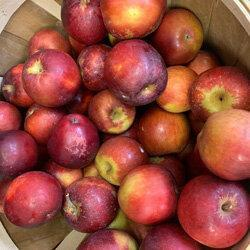apple: (176, 173, 249, 246), (102, 38, 167, 106), (116, 161, 179, 227), (188, 64, 250, 130), (196, 109, 250, 182), (20, 49, 81, 108), (2, 170, 62, 228), (60, 176, 118, 233), (150, 6, 203, 65), (134, 103, 190, 157), (47, 112, 101, 167), (93, 135, 147, 186), (100, 1, 165, 41), (61, 1, 107, 48), (156, 65, 195, 114), (1, 130, 40, 179), (139, 221, 205, 249), (76, 44, 112, 93), (1, 63, 33, 107), (76, 228, 135, 250), (26, 28, 71, 56), (186, 47, 220, 76), (1, 101, 22, 134)
